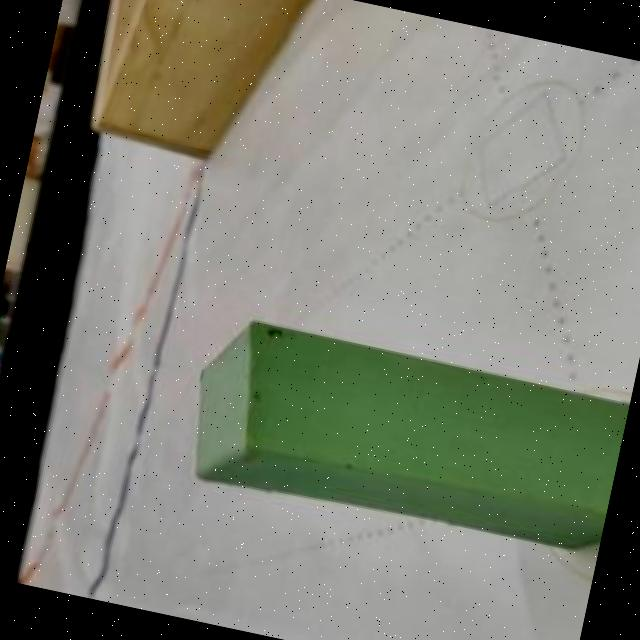greenbox: (174, 309, 630, 564)
